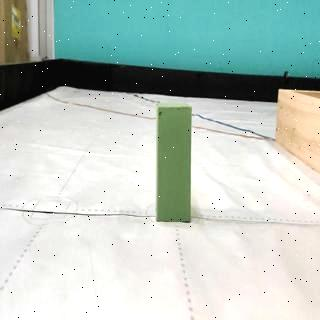greenbox: (156, 102, 193, 224)
